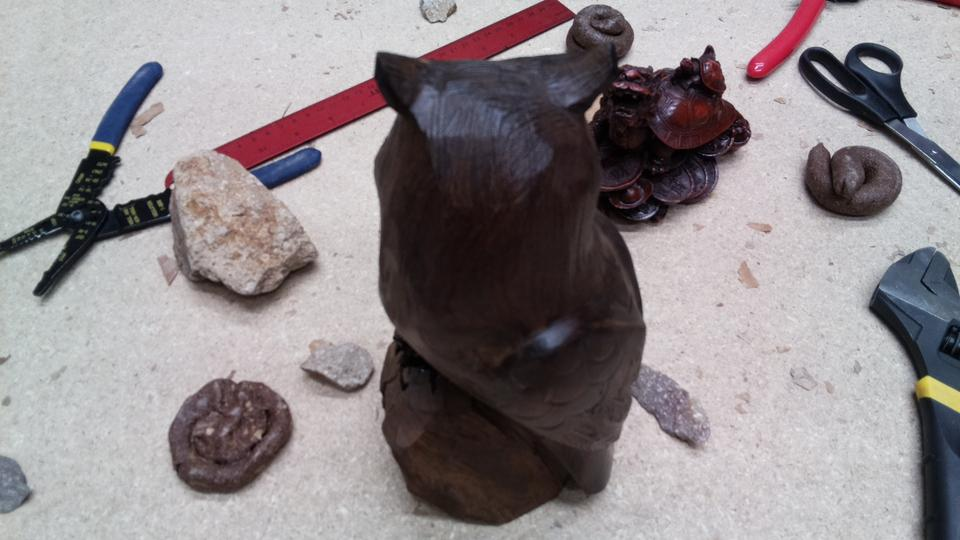poop: (160, 371, 297, 502), (803, 139, 905, 222), (562, 1, 637, 69)
